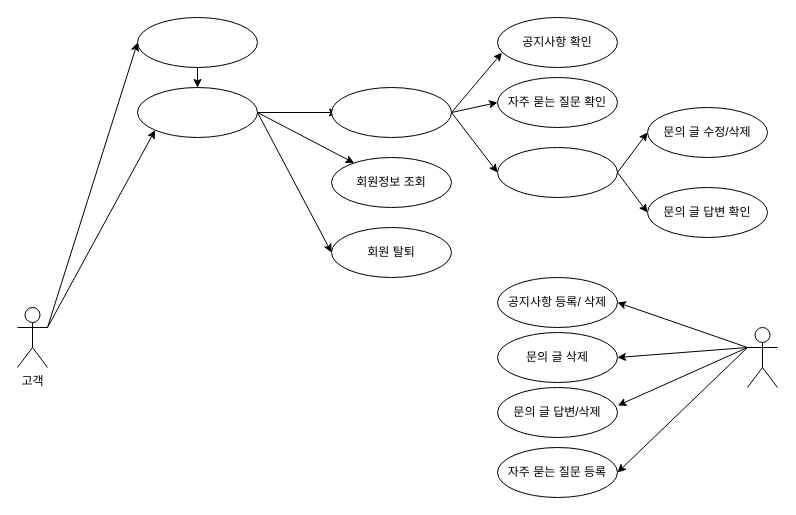
This 796x515 diagram has some shape labels left out. Here are the shapes that lost their labels. From the top down, the centre of each, then its label:
[197,42]: 회원가입
[197,112]: 로그인/로그아웃
[391,112]: 고객센터
[557,172]: 문의 글 등록
[762,357]: 관리자
